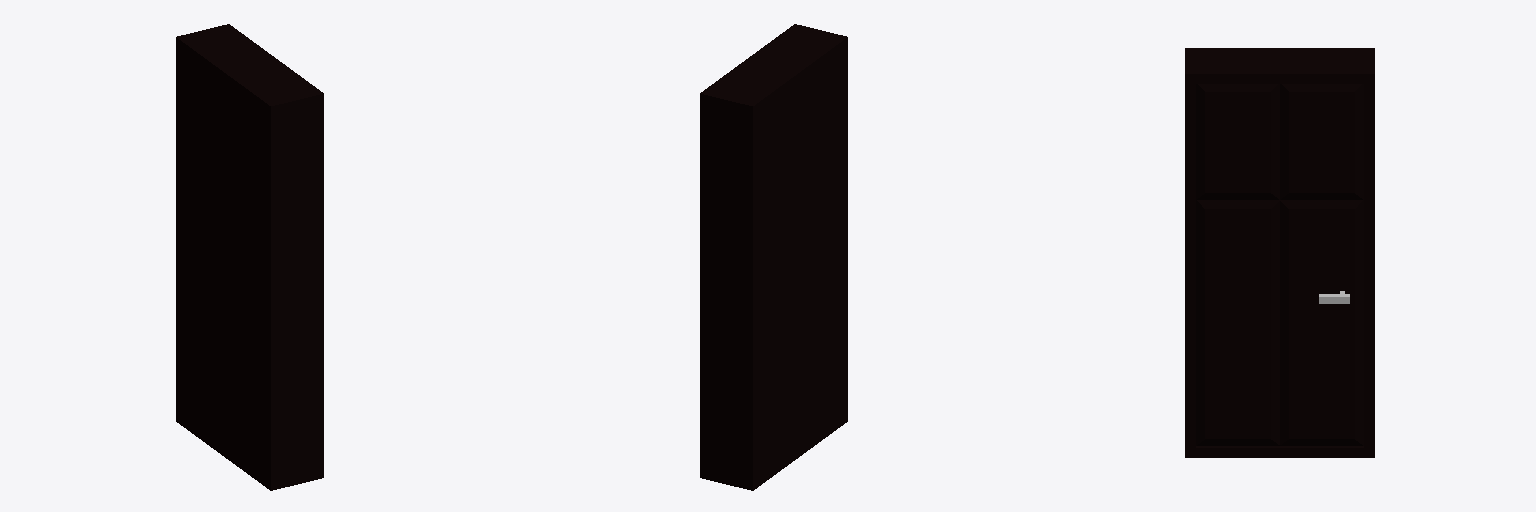
Rendered from door.obj.
3 views of the same model, side by side, from view 1: azimuth 30°, elevation 25°; view 2: azimuth 150°, elevation 25°; view 3: azimuth 270°, elevation 25° (orthographic).
Visible parts, largest first — view 1: Cube.011; view 2: Cube.011; view 3: Cube.011.
Part boxes in pixels (x1,y1,x2,y2): Cube.011: (176, 24, 323, 490); Cube.011: (700, 24, 847, 490); Cube.011: (1185, 48, 1374, 457).
Bounding box in the file's own units: 1.8 × 10.11 × 4.54.